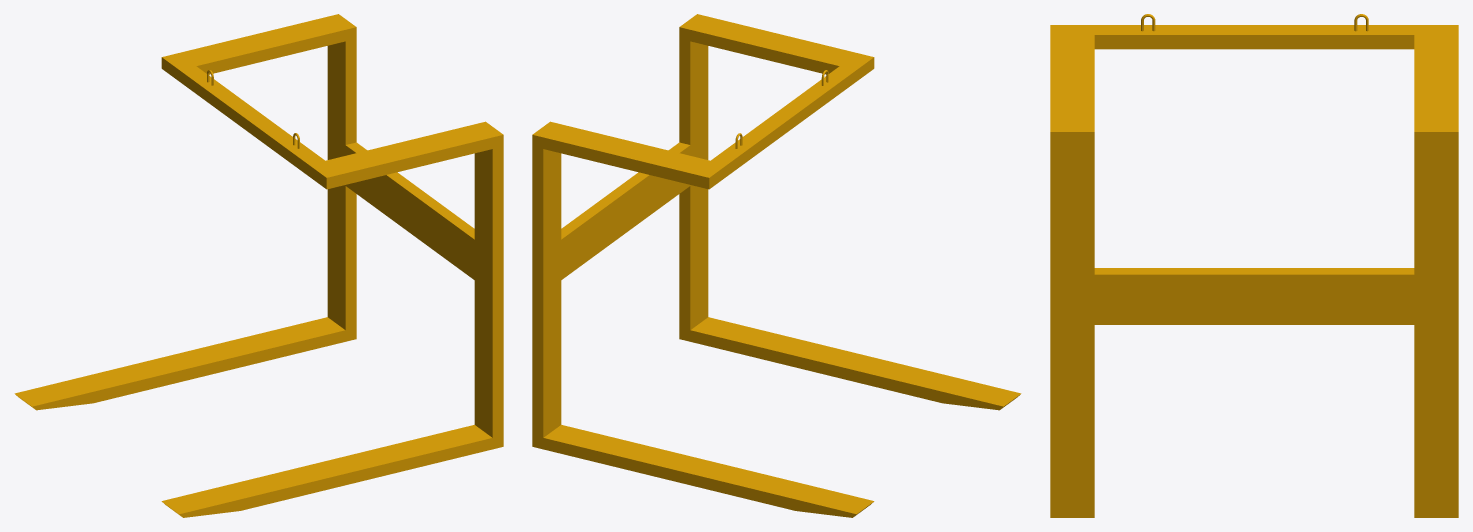
Rendered from Crane_Forklift_Forks.fbx.
3 renders of one model, left to right at view 1: azimuth 30°, elevation 25°; view 2: azimuth 150°, elevation 25°; view 3: azimuth 270°, elevation 25°, orthographic. The views are drawn at different scales.
Visible parts, largest first — view 1: ForkliftCrane_Forks; view 2: ForkliftCrane_Forks; view 3: ForkliftCrane_Forks.
Boxes of the visible parts, x1,y1,x2,y2 form: ForkliftCrane_Forks: (14,14,503,517); ForkliftCrane_Forks: (532,14,1021,517); ForkliftCrane_Forks: (1050,14,1458,517).
Size of the model in its own units: 133 by 127 by 117.
